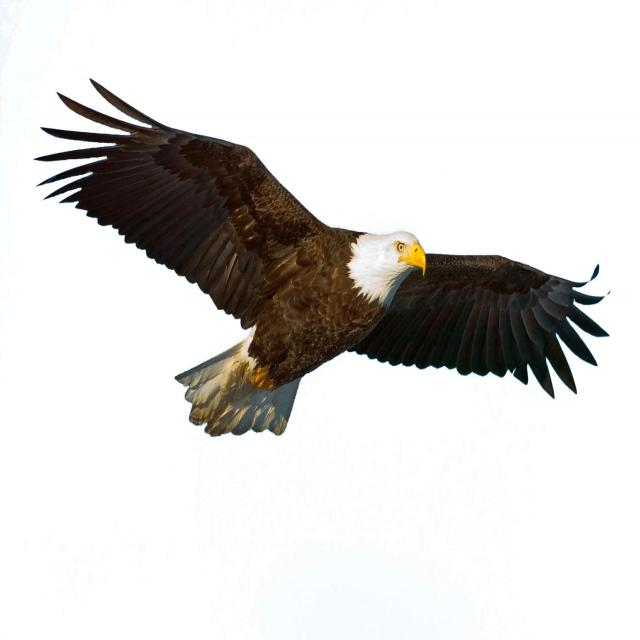eagle: (38, 81, 608, 435)
